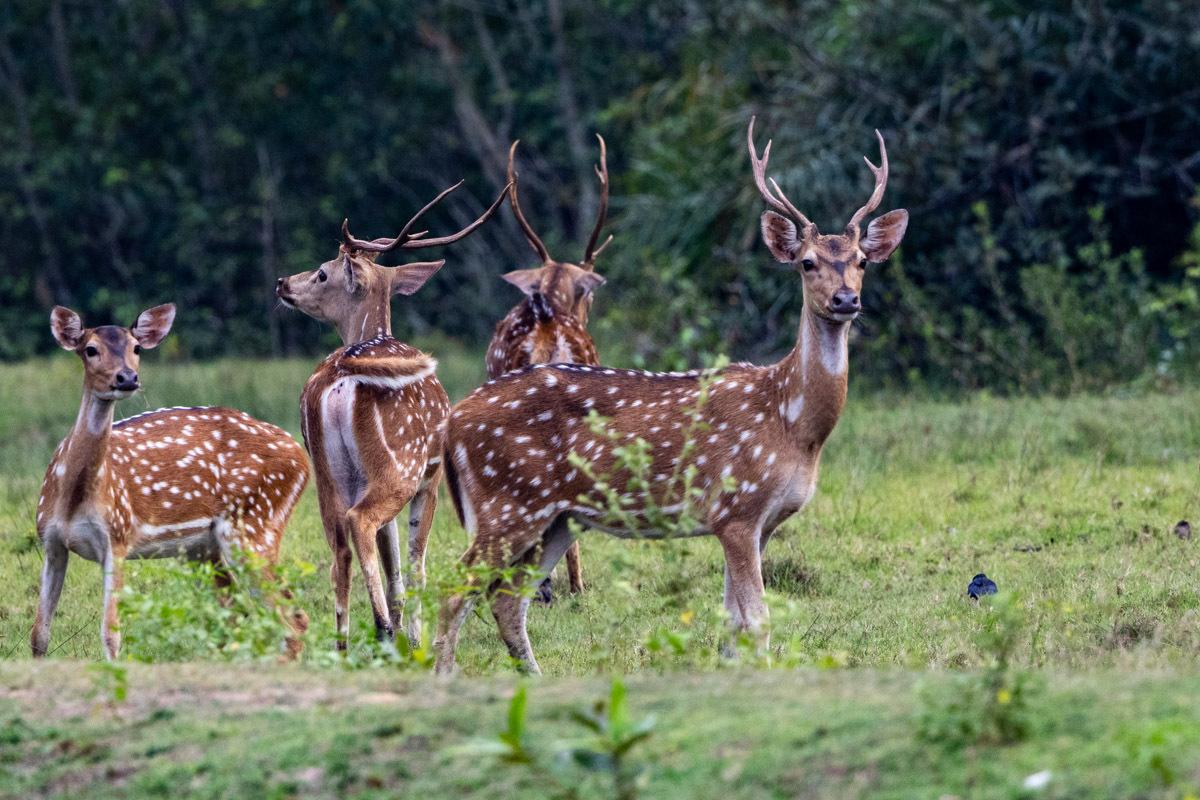Deer: (433, 119, 907, 672), (276, 181, 499, 649), (30, 304, 310, 659), (485, 133, 612, 378)
